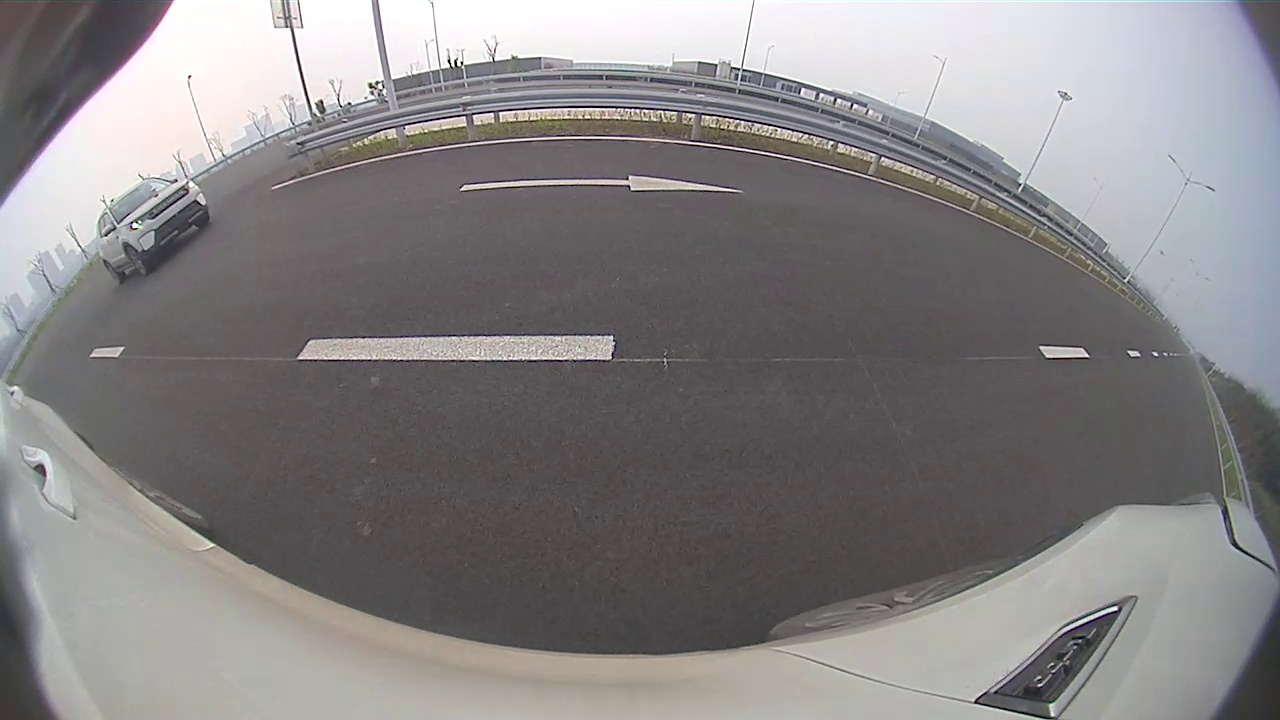car: (96, 177, 210, 285)
front: (122, 244, 151, 279)
